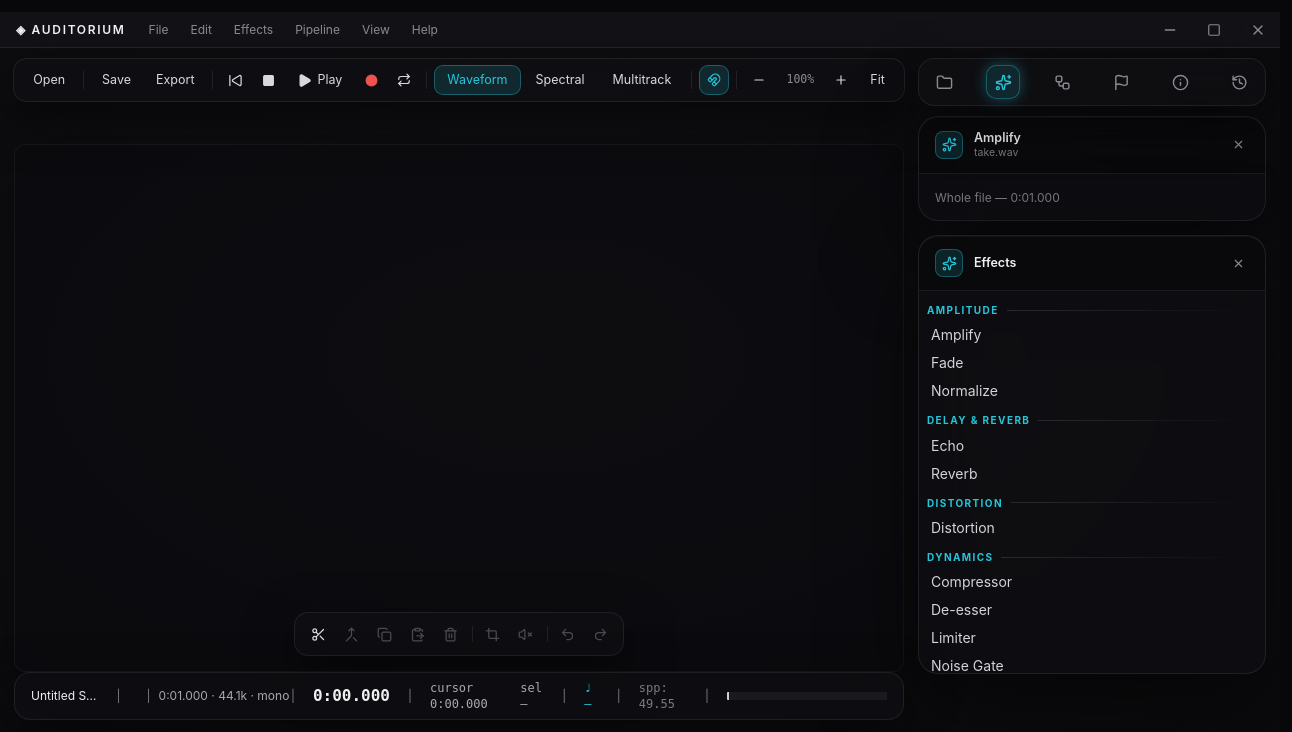
Test case: close paths › the header ✕ unmounts the card and leaves the Effects module card in place
This screenshot has width=1292, height=732.
Click the button with test id "hosted-tool-close": [1238, 145] box [1227,134,1249,156]
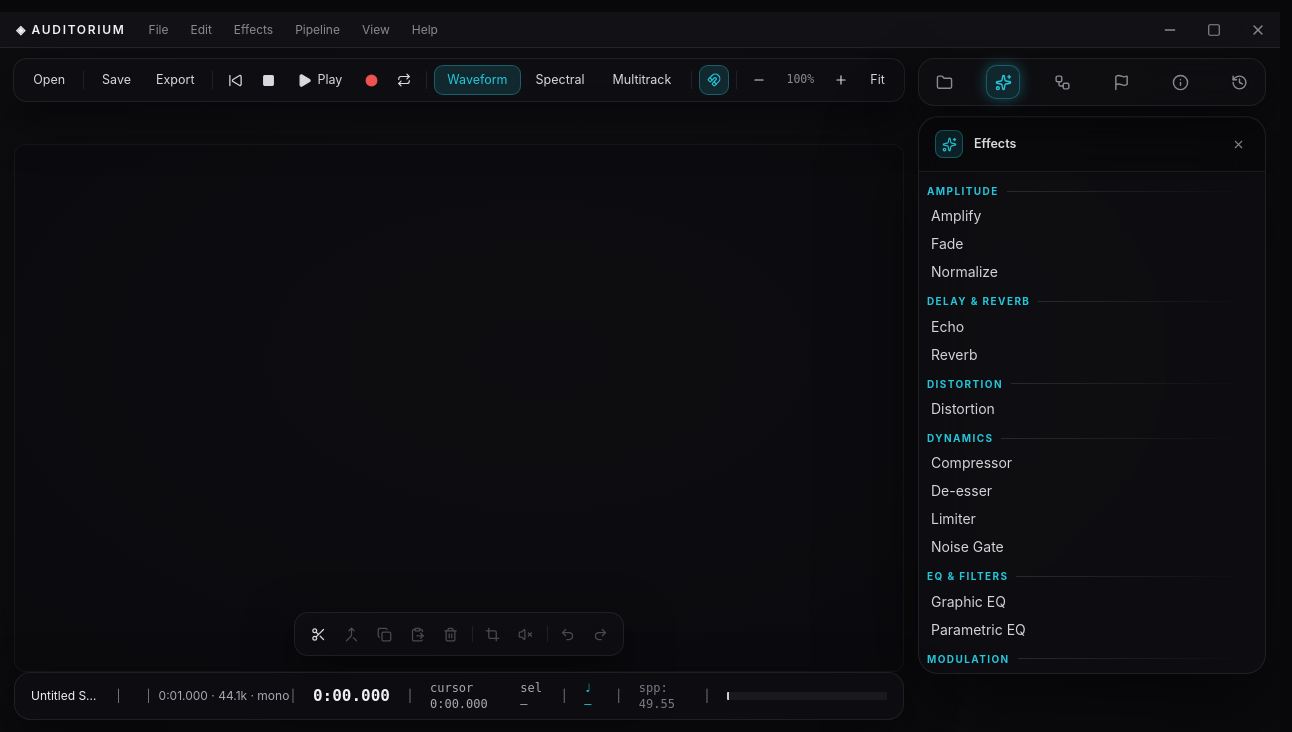
Expected: the element with test id "effect-host" is gone
